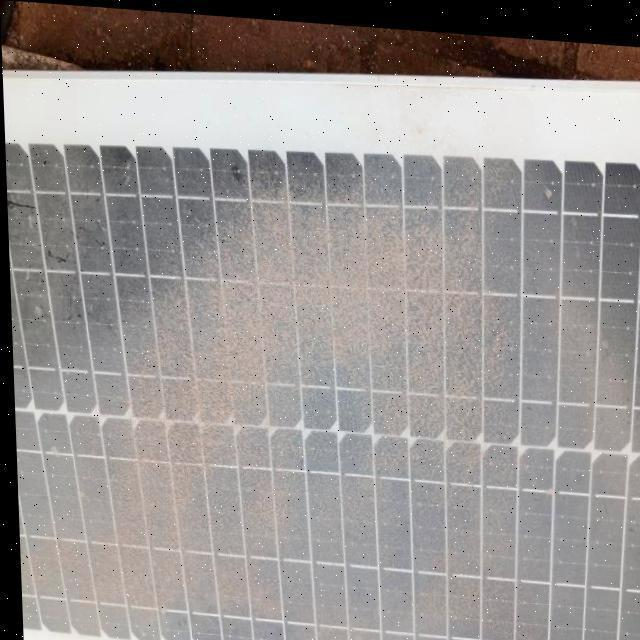Surface Contaminant: (4, 144, 640, 640)
